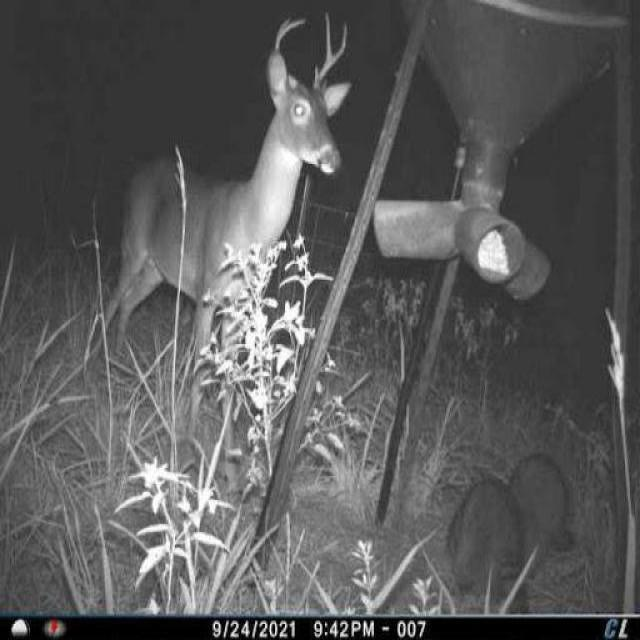deer: (82, 9, 356, 508)
